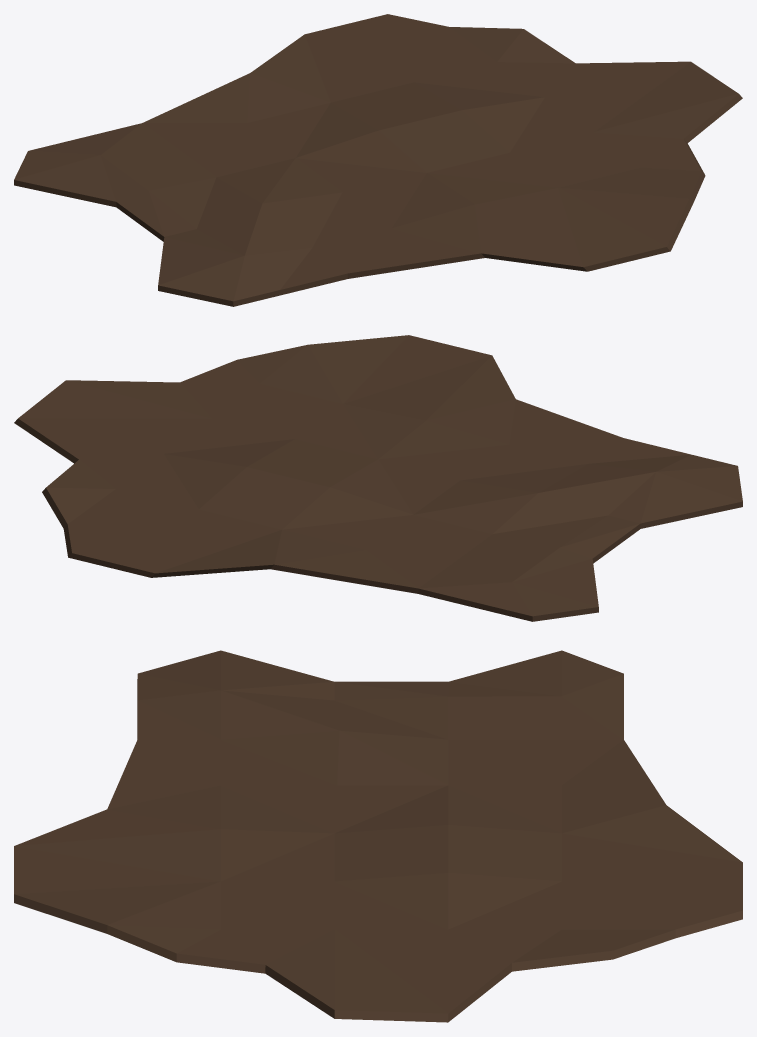
The model's file is Leather_Floor_2.fbx.
3 renders of one model, top to bottom at view 1: azimuth 30°, elevation 25°; view 2: azimuth 150°, elevation 25°; view 3: azimuth 270°, elevation 25°, orthographic. The views are drawn at different scales.
Parts seen in each view (by area): view 1: Leather_Floor_2; view 2: Leather_Floor_2; view 3: Leather_Floor_2.
Part boxes in pixels (bbox=[...]): Leather_Floor_2: bbox=[14, 14, 742, 306]; Leather_Floor_2: bbox=[14, 335, 742, 621]; Leather_Floor_2: bbox=[14, 650, 742, 1022].
Size of the model in its own units: 6.09 by 0.1328 by 5.13.
